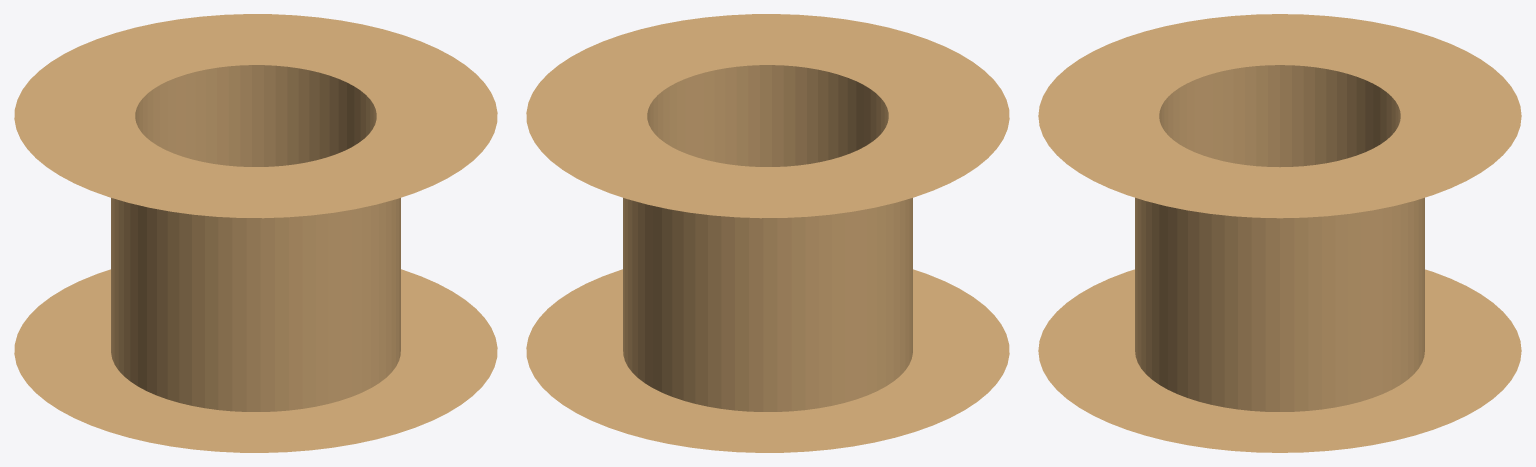
Rendered from board.glb.
The picture shows the model from 3 angles, left to right: view 1: azimuth 30°, elevation 25°; view 2: azimuth 150°, elevation 25°; view 3: azimuth 270°, elevation 25°; orthographic projection.
Parts seen in each view (by area): view 1: Unified_Via_0; view 2: Unified_Via_0; view 3: Unified_Via_0.
Part boxes in pixels (x1,y1,x2,y2): Unified_Via_0: (14, 14, 497, 452); Unified_Via_0: (526, 14, 1009, 452); Unified_Via_0: (1038, 14, 1521, 452).
Size of the model in its own units: 0.0005 by 0.000268 by 0.0005.
